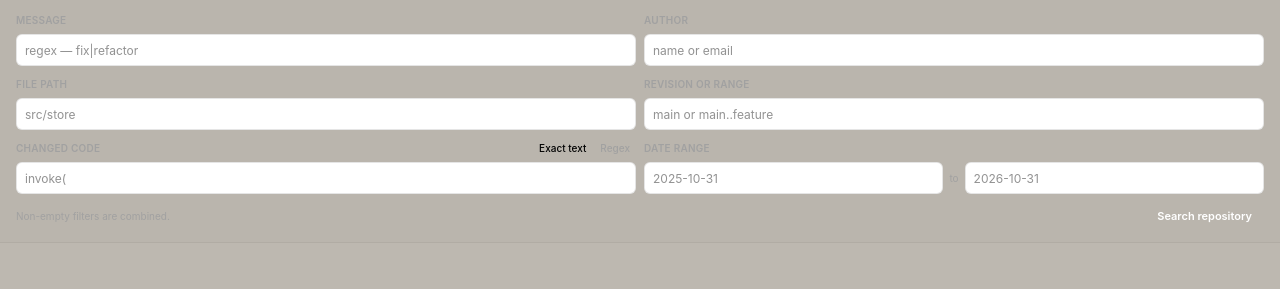
Test case: AdvancedHistorySearch async isolation › keeps newer path suggestions when an older request resolves last
The image size is (1280, 289).
In the dropdown with placeholder "src/store": (326, 114) x1=16 y1=98 x2=636 y2=130, type "old"
Wait 200 ms
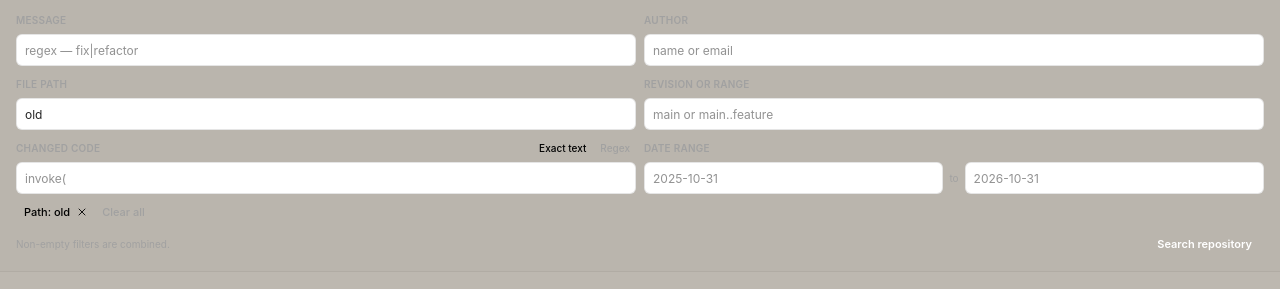
Replace the text in the dropdown with placeholder "src/store" with "new": (326, 114) x1=16 y1=98 x2=636 y2=130
Wait 200 ms
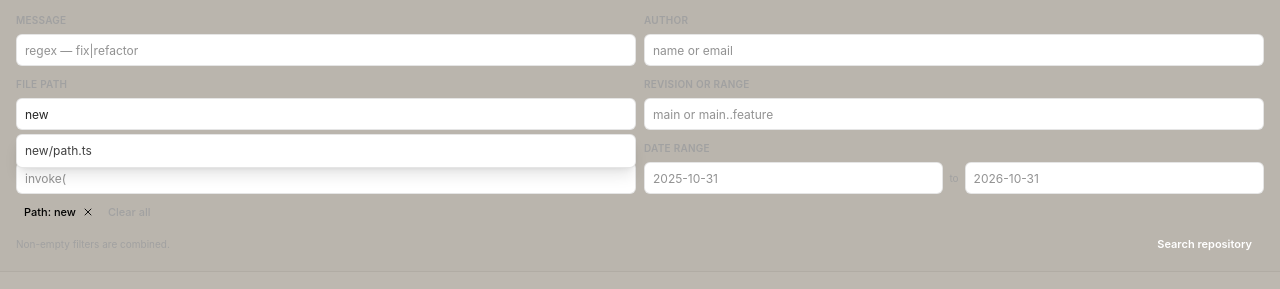
Result: the option "new/path.ts" is shown at x1=17 y1=139 x2=635 y2=163
